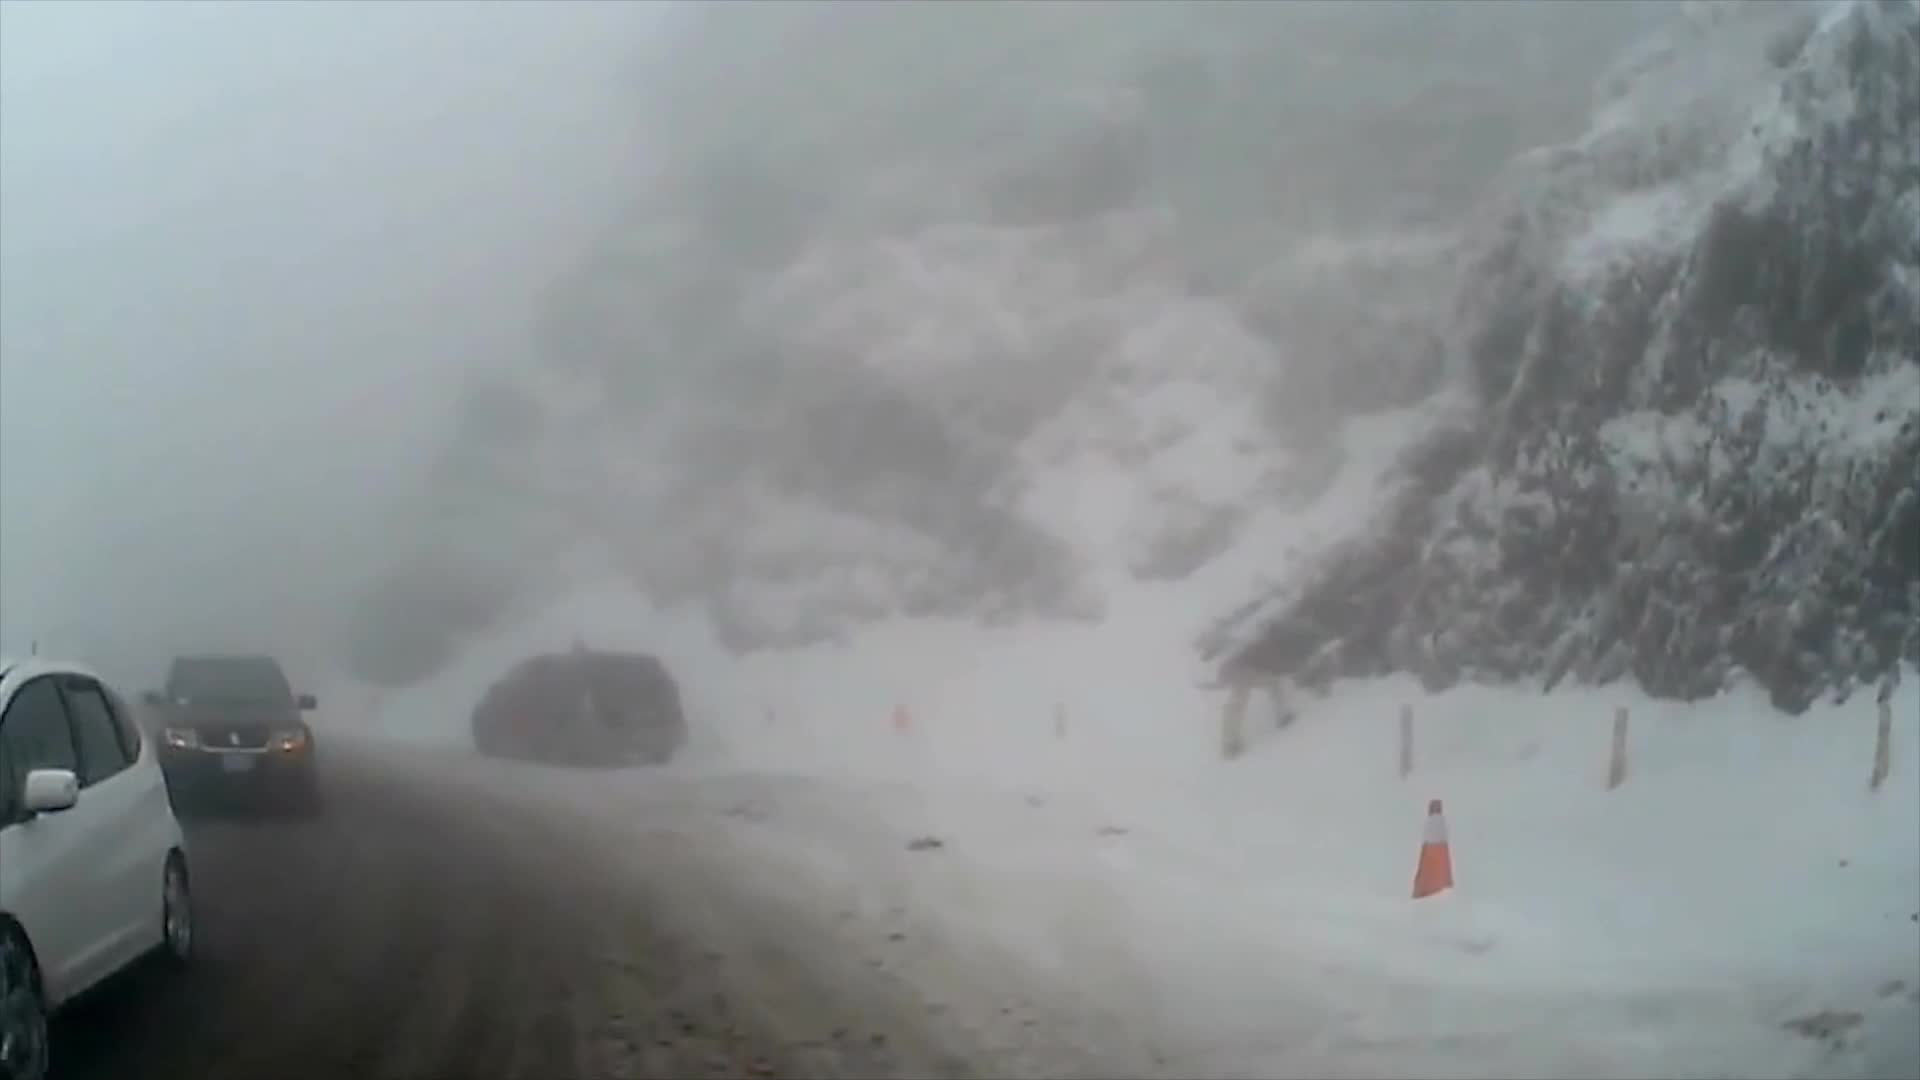vehicle: (0, 655, 193, 1080), (135, 647, 319, 816), (464, 636, 676, 756)
